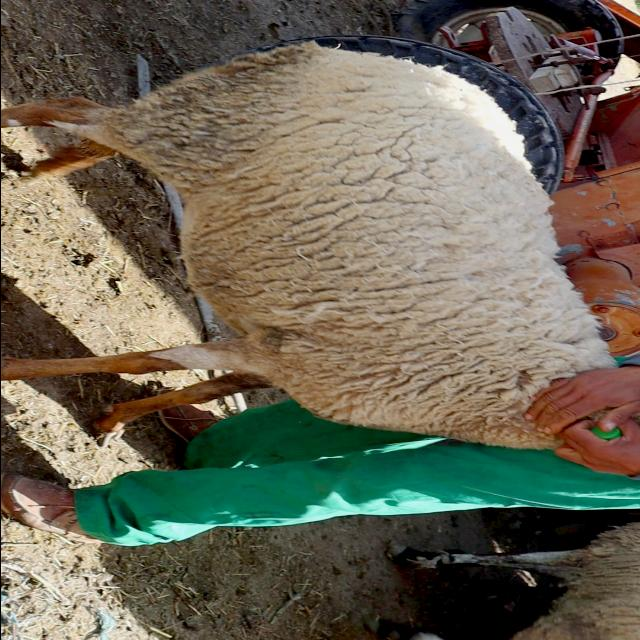Score_5: (1, 43, 615, 449)
